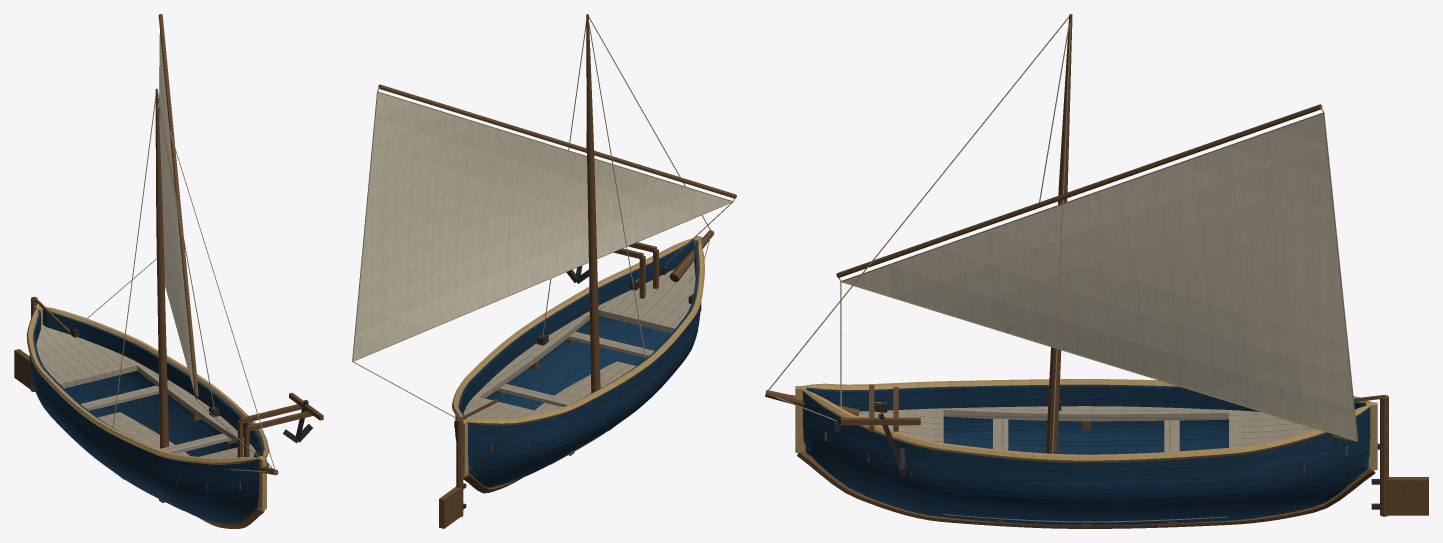
The model's file is ship.glb.
3 views of the same model, side by side, from view 1: azimuth 30°, elevation 25°; view 2: azimuth 150°, elevation 25°; view 3: azimuth 270°, elevation 25° (orthographic). The views are drawn at different scales.
Parts seen in each view (by area): view 1: hull_shell_starboard, hull_shell_port, main_lateen_00, deck_stern, main, gunwale_starboard, main_lateen_00_lateen_yard, gunwale_port, deck_starboard_walkway, cockpit_sole, thwart_0, thwart_1 (+8 smaller); view 2: main_lateen_00, hull_shell_starboard, hull_shell_port, deck_bow, main, gunwale_starboard, main_lateen_00_lateen_yard, deck_starboard_walkway, gunwale_port, cockpit_sole, deck_stern, rudder_blade (+7 smaller); view 3: main_lateen_00, hull_shell_port, hull_shell_starboard, gunwale_port, deck_port_walkway, keel, main_lateen_00_lateen_yard, main, gunwale_starboard, deck_stern, rudder_blade, deck_bow (+5 smaller).
Part boxes in pixels (left/top/right/bottom): hull_shell_starboard: left=29, top=310, right=259, bottom=523; hull_shell_port: left=43, top=309, right=265, bottom=457; main_lateen_00: left=159, top=35, right=194, bottom=389; deck_stern: left=36, top=324, right=140, bottom=388; main: left=155, top=88, right=168, bottom=448; gunwale_starboard: left=26, top=307, right=260, bottom=464; main_lateen_00_lateen_yard: left=158, top=14, right=198, bottom=397; gunwale_port: left=46, top=307, right=269, bottom=457; deck_starboard_walkway: left=137, top=364, right=250, bottom=445; cockpit_sole: left=98, top=412, right=189, bottom=510; thwart_0: left=81, top=385, right=159, bottom=410; thwart_1: left=159, top=433, right=231, bottom=453; main_lateen_00: left=353, top=92, right=731, bottom=360; hull_shell_starboard: left=468, top=241, right=701, bottom=487; hull_shell_port: left=455, top=240, right=693, bottom=440; deck_bow: left=598, top=261, right=695, bottom=333; main: left=586, top=14, right=600, bottom=393; gunwale_starboard: left=466, top=238, right=704, bottom=425; main_lateen_00_lateen_yard: left=378, top=84, right=736, bottom=198; deck_starboard_walkway: left=475, top=311, right=589, bottom=398; gunwale_port: left=452, top=237, right=695, bottom=420; cockpit_sole: left=535, top=361, right=636, bottom=464; deck_stern: left=463, top=396, right=542, bottom=420; rudder_blade: left=439, top=486, right=461, bottom=528; main_lateen_00: left=843, top=113, right=1356, bottom=440; hull_shell_port: left=802, top=391, right=1370, bottom=525; hull_shell_starboard: left=806, top=384, right=1365, bottom=454; gunwale_port: left=801, top=388, right=1371, bottom=462; deck_port_walkway: left=943, top=406, right=1228, bottom=421; keel: left=797, top=451, right=1375, bottom=528; main_lateen_00_lateen_yard: left=836, top=104, right=1322, bottom=277; main: left=1046, top=14, right=1072, bottom=453; gunwale_starboard: left=800, top=379, right=1371, bottom=402; deck_stern: left=1229, top=410, right=1314, bottom=447; rudder_blade: left=1386, top=477, right=1428, bottom=515; deck_bow: left=858, top=408, right=943, bottom=442.
Bounding box in the file's own units: 4.12 × 8.95 × 10.46.
7 materials, 7 textured.
